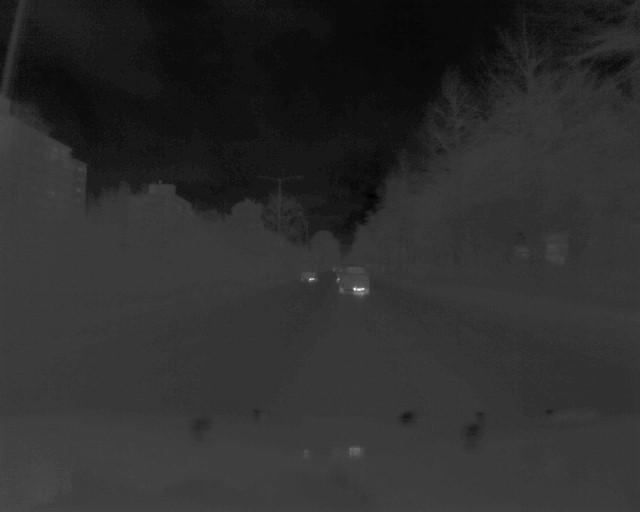car: (337, 262, 372, 299)
